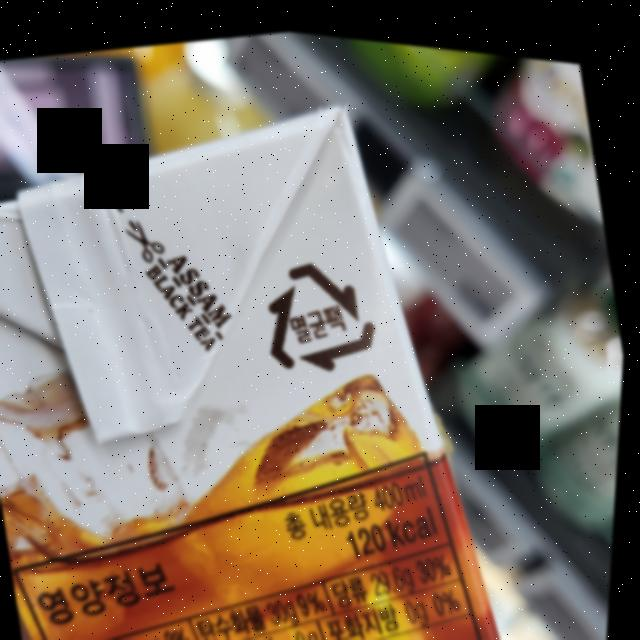SterilizedPack: (252, 233, 392, 382)
